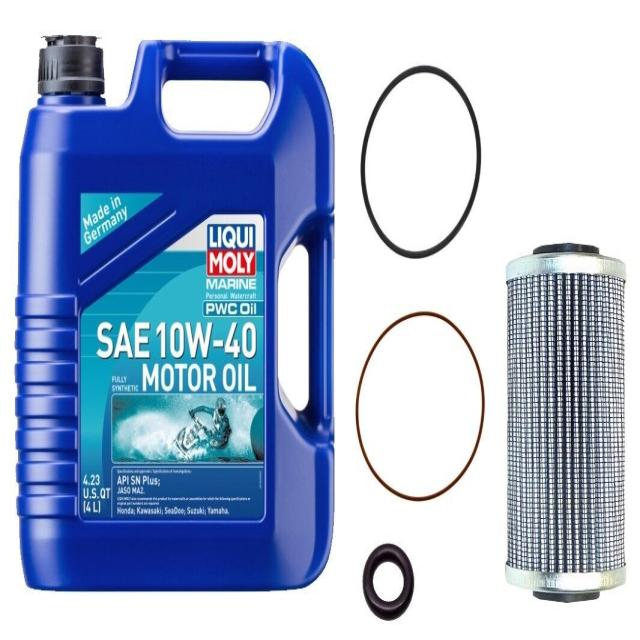motor_oil: (13, 36, 337, 595)
oil_filter: (499, 240, 631, 609)
